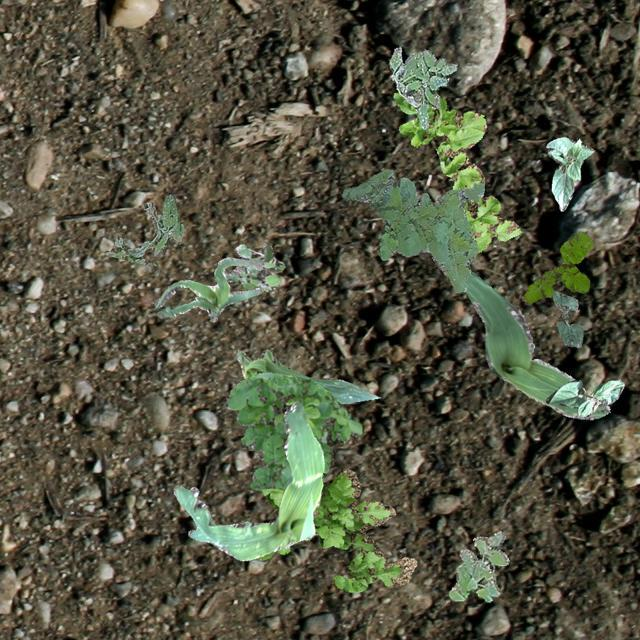crop: (172, 400, 324, 560), (464, 270, 608, 418), (235, 348, 378, 402), (154, 256, 262, 320), (544, 136, 594, 210), (544, 378, 622, 417), (550, 290, 582, 346)
weed: (392, 90, 520, 252), (255, 468, 416, 592), (341, 168, 484, 292), (224, 372, 360, 491), (388, 46, 457, 128), (104, 193, 182, 264), (520, 230, 592, 302), (448, 530, 508, 600), (224, 240, 284, 290)
